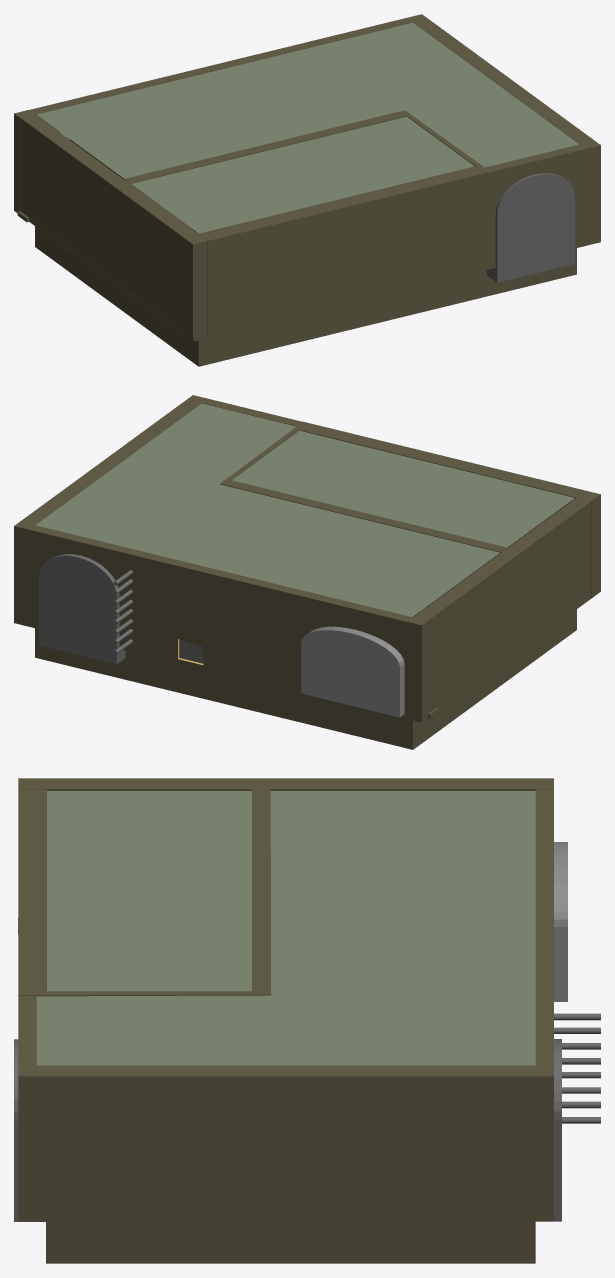
Rendered from TrainStation.fbx.
3 views of the same model, one above another, from view 1: azimuth 30°, elevation 25°; view 2: azimuth 150°, elevation 25°; view 3: azimuth 270°, elevation 25° (orthographic). The views are drawn at different scales.
Parts seen in each view (by area): view 1: Structure, Roof, Archway.002; view 2: Structure, Roof, Archway, Archway.001; view 3: Roof, Structure, Archway, Archway.001, Archway.002.
Boxes of the visible parts, box(x1,y1,x2,y2) form: Structure: box(14, 14, 600, 366); Roof: box(36, 22, 579, 233); Archway.002: box(486, 173, 574, 282); Structure: box(14, 395, 600, 749); Roof: box(35, 403, 574, 616); Archway: box(301, 626, 404, 717); Archway.001: box(39, 554, 125, 664); Roof: box(36, 791, 535, 1065); Structure: box(18, 778, 553, 1263); Archway: box(554, 842, 567, 1001); Archway.001: box(554, 1039, 561, 1221); Archway.002: box(14, 1039, 45, 1221).
Bounding box in the file's own units: 4338 × 1342 × 3594.
